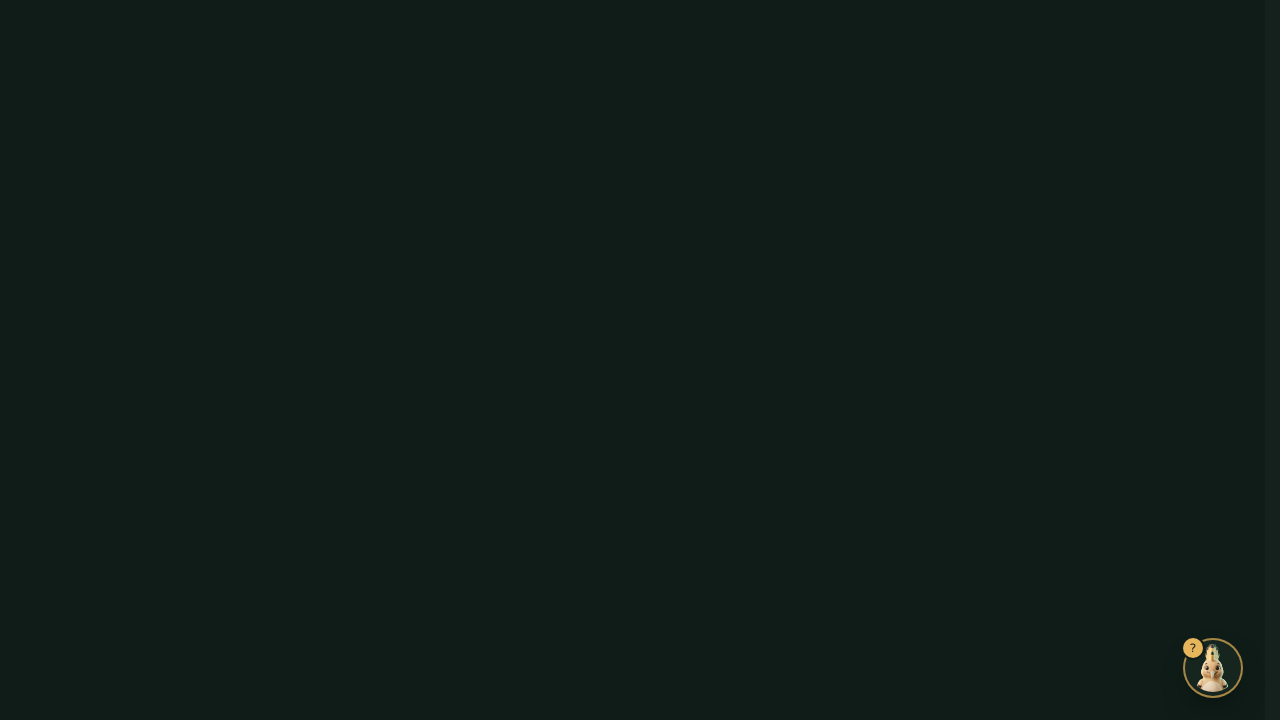
Test: SupportChat — the launcher and the panel › opens with the greeting, the four topic chips and the question field focused; Esc closes and focus returns
This screenshot has width=1280, height=720.
Click the button named "שאלות ותמיכה" at (1213, 668), box [1185,640,1241,696]
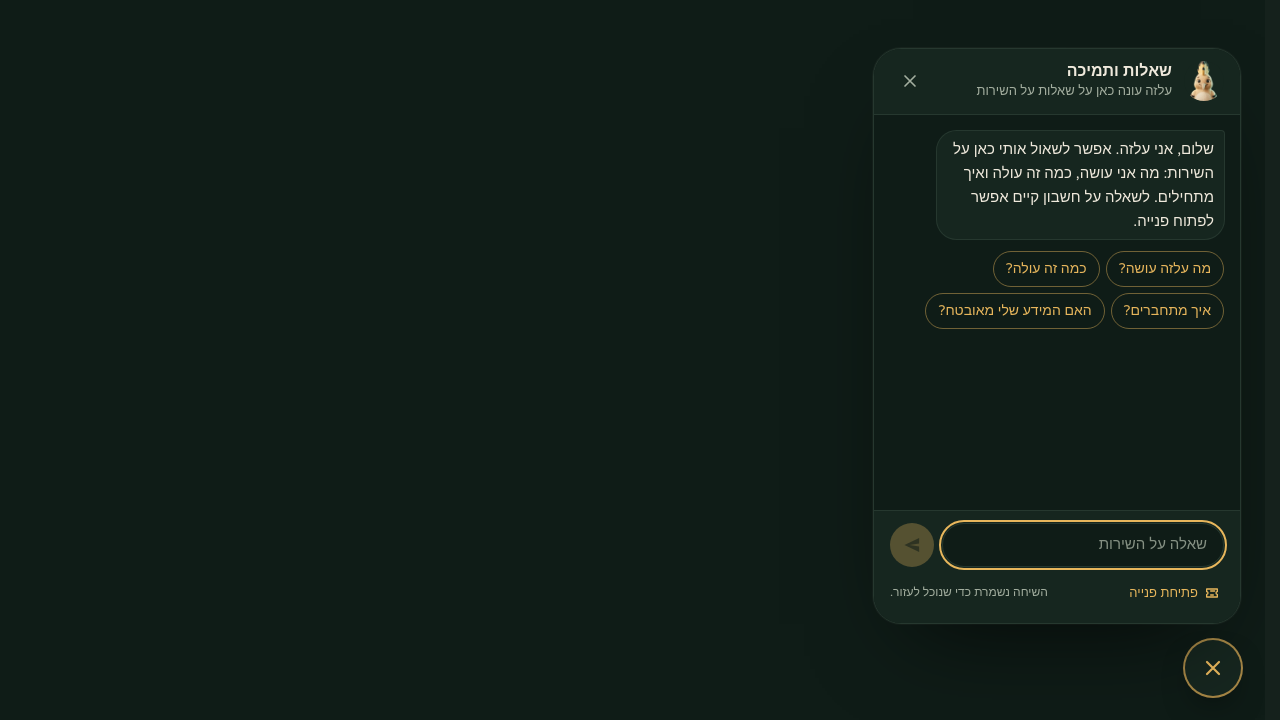
Expected: the button named "שאלות ותמיכה" is expanded, [1185,640,1241,696]
Press Escape in the text box labelled "שאלה", box [942,523,1224,567]
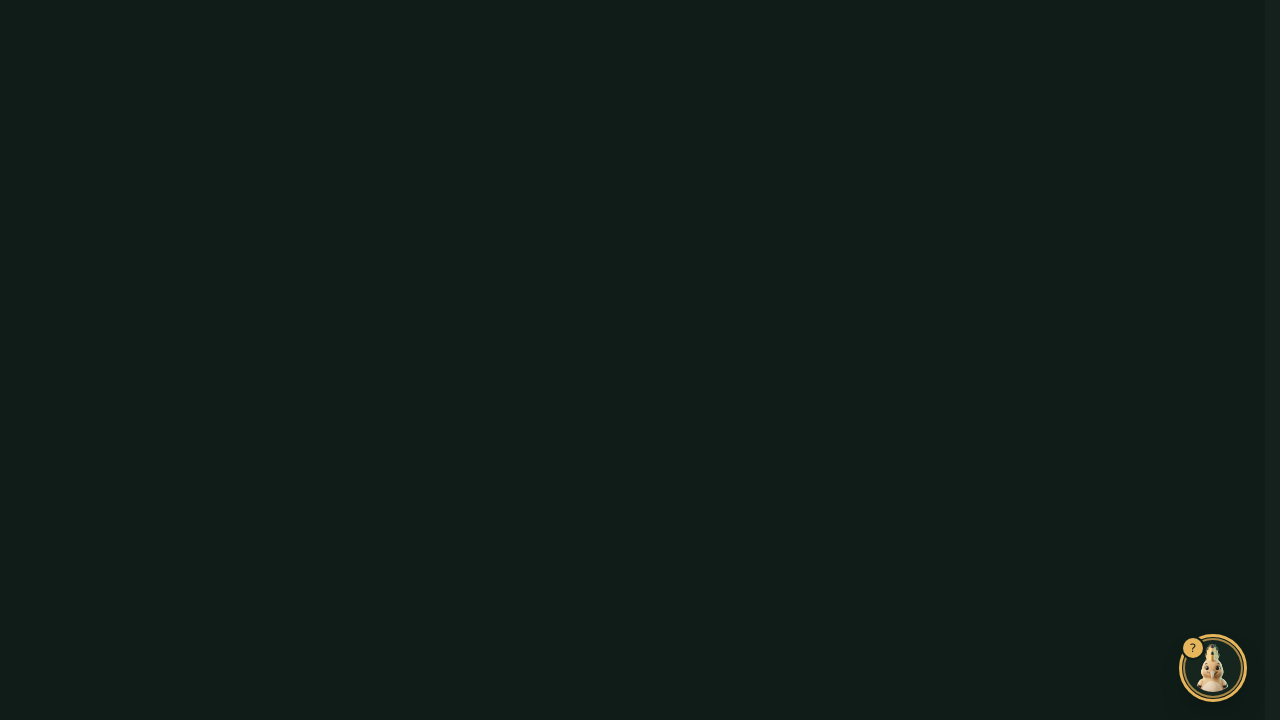
Expected: the dialog is gone
